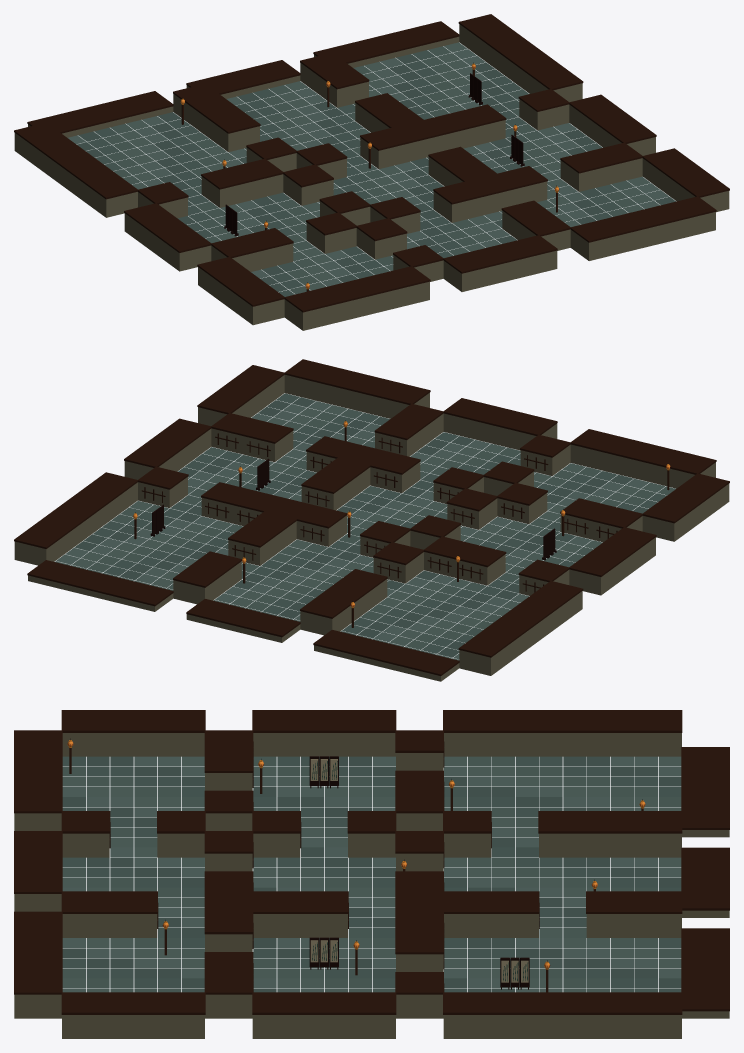
The model's file is chapter-1.glb.
The picture shows the model from 3 angles, top to bottom: view 1: azimuth 30°, elevation 25°; view 2: azimuth 150°, elevation 25°; view 3: azimuth 270°, elevation 25°; orthographic projection. The views are drawn at different scales.
Parts seen in each view (by area): view 1: 院墙, 青砖地面, 庭院陈设; view 2: 院墙, 青砖地面, 庭院陈设; view 3: 院墙, 青砖地面, 庭院陈设.
Part boxes in pixels (box(x1,y1,x2,y2)): 院墙: box(14, 14, 729, 330); 青砖地面: box(68, 42, 675, 296); 庭院陈设: box(180, 62, 559, 291); 院墙: box(14, 359, 729, 681); 青砖地面: box(55, 393, 675, 660); 庭院陈设: box(133, 420, 670, 627); 院墙: box(14, 710, 729, 1038); 青砖地面: box(62, 756, 681, 992); 庭院陈设: box(67, 738, 645, 992).
Size of the model in its own units: 30.04 by 1.62 by 30.04.
